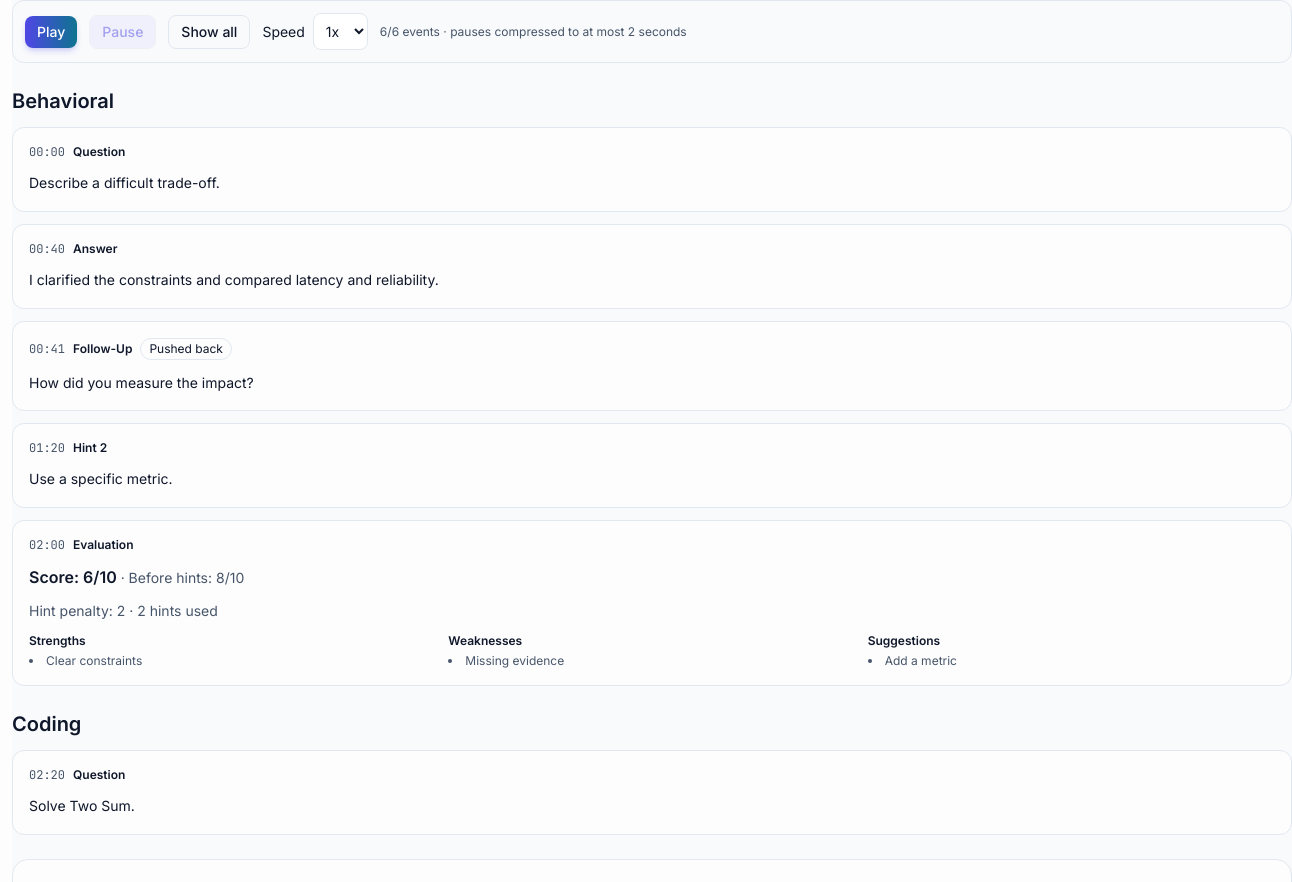
Test case: plays compressed offsets, pauses and shows all without live announcements
The image size is (1292, 882).
Click the button "Play".
click(51, 32)  # box [25, 16, 77, 48]
Wait 2000 ms
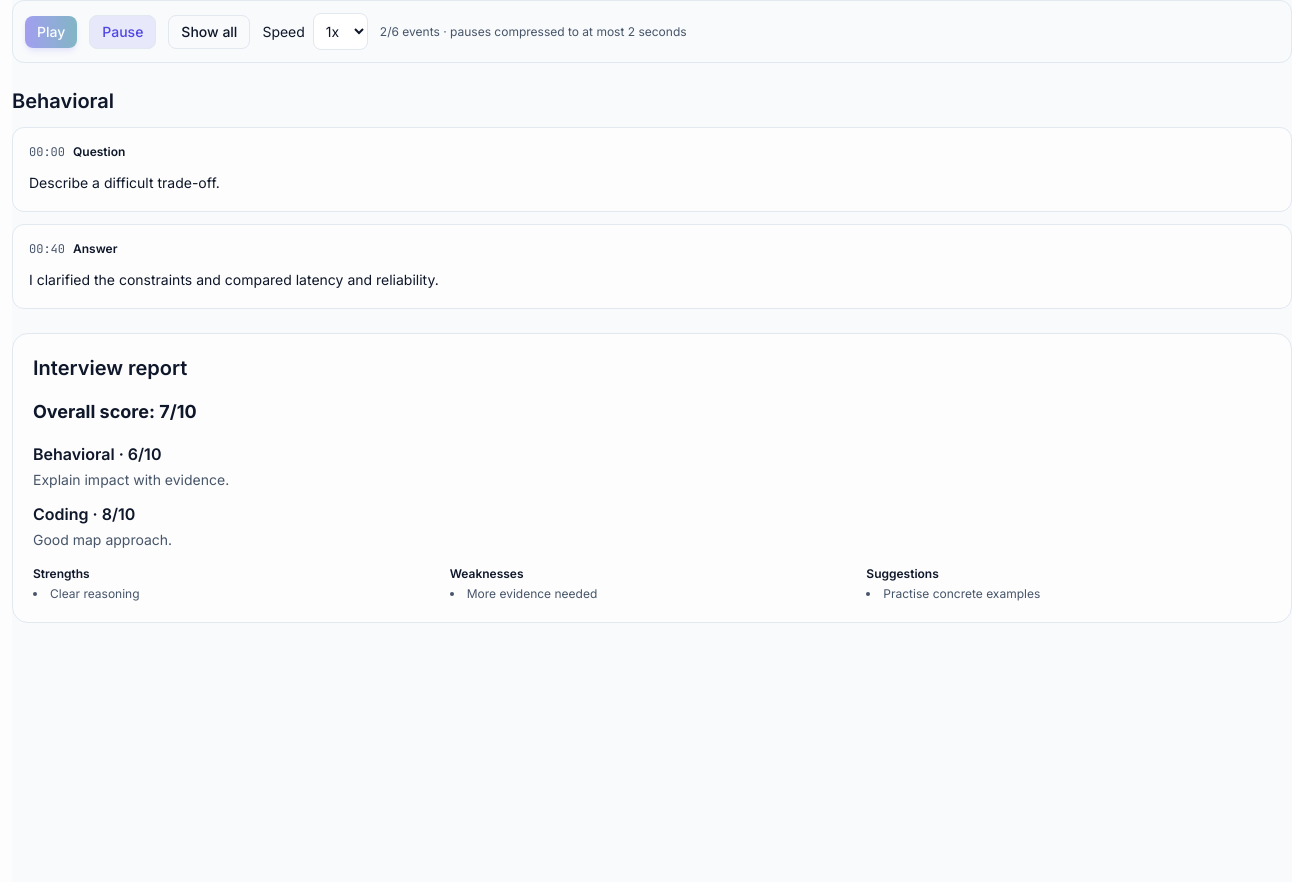
Check: the text "I clarified" is shown, box [29, 271, 439, 288]
Check: the text "Solve Two Sum." is gone
Click the button "Pause".
click(123, 32)  # box [89, 14, 156, 48]
Wait 10000 ms
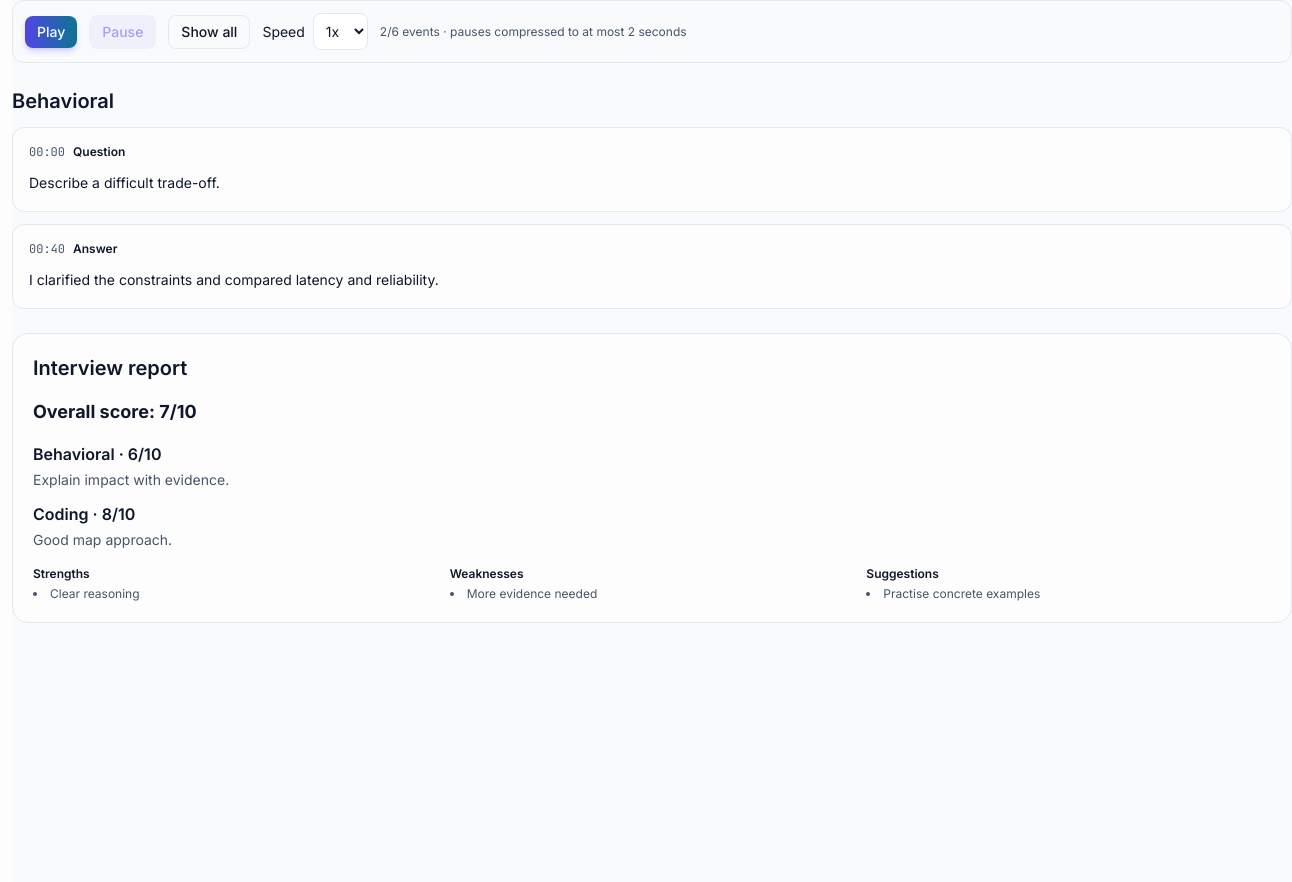
Check: the text "How did you measure the impact?" is not shown
Select "4x" in the dropdown labelled "Speed" at (340, 32), box [313, 13, 368, 50]
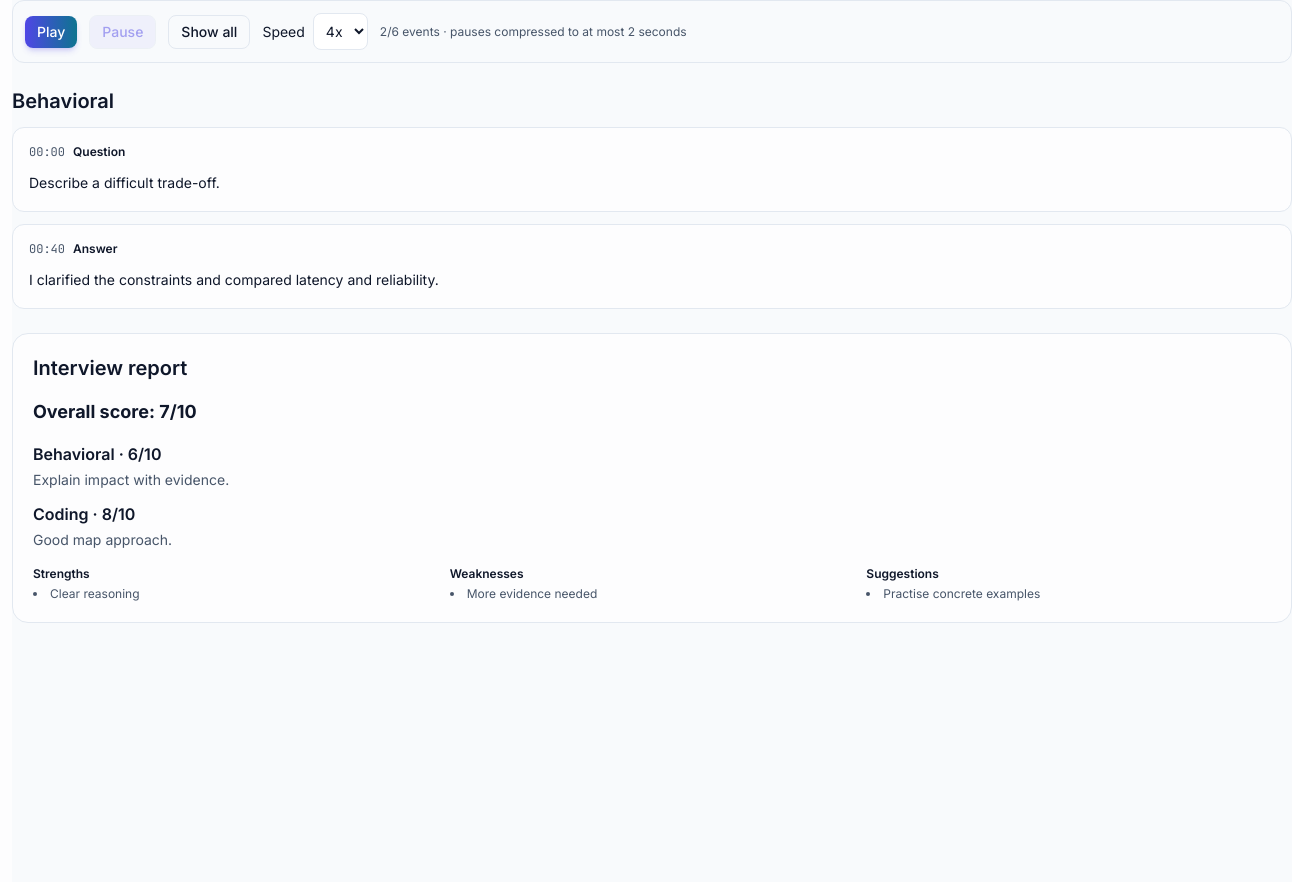
Click the button "Play".
click(51, 32)  # box [25, 16, 77, 48]
Wait 25 ms
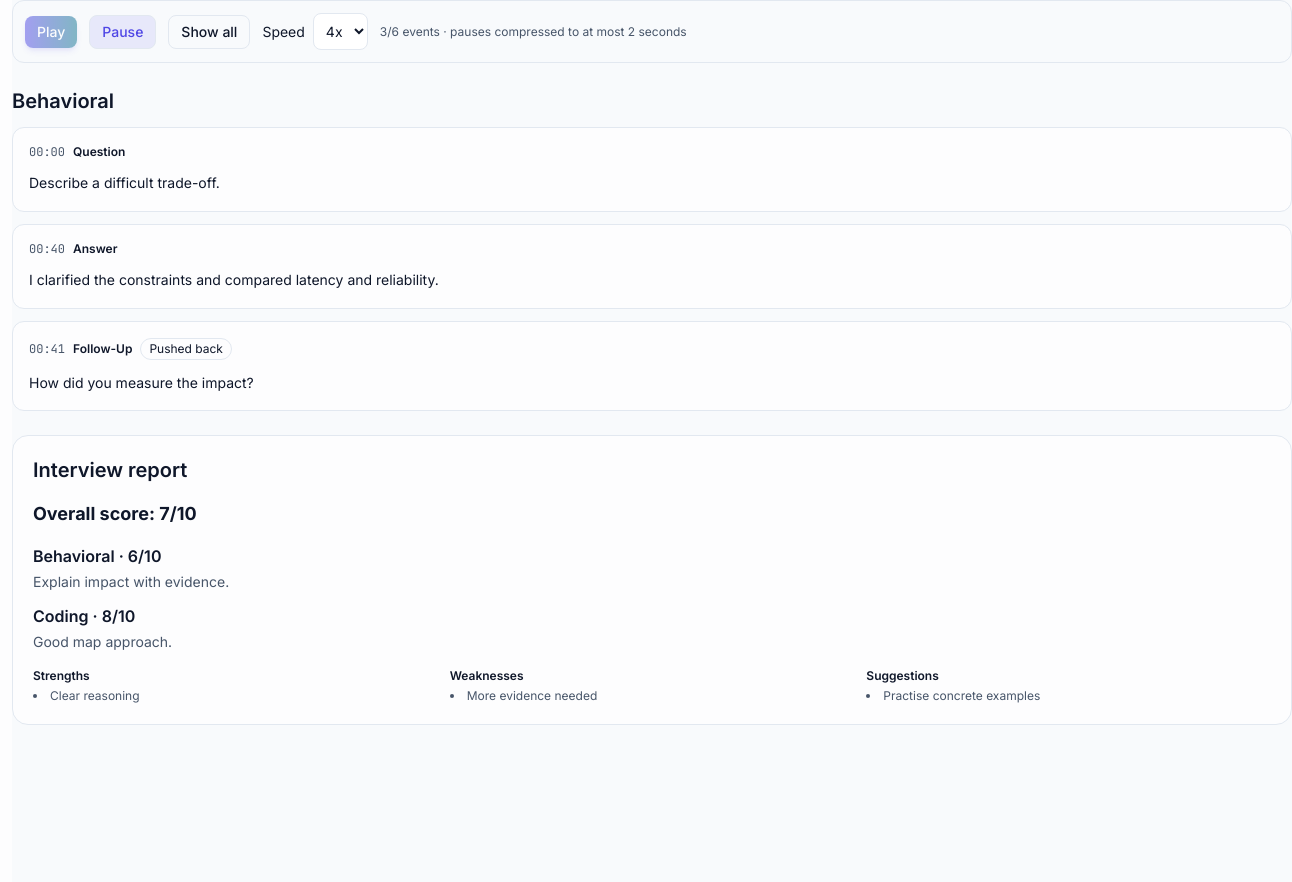
Check: the text "How did you measure the impact?" is shown, box [29, 374, 254, 390]
Click the button "Show all".
click(209, 32)  # box [168, 14, 250, 48]
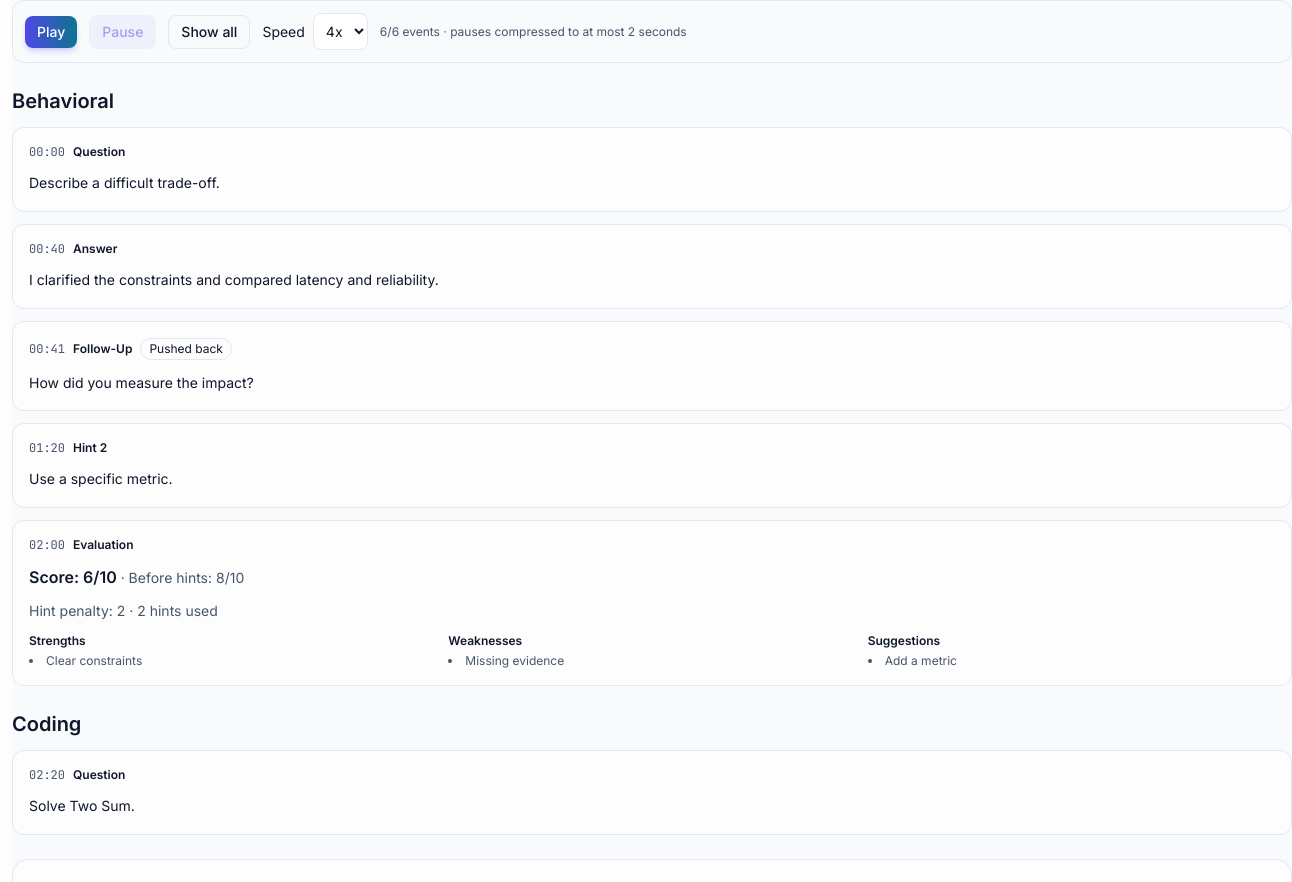
Check: the text "Solve Two Sum." is shown, box [29, 797, 135, 814]
